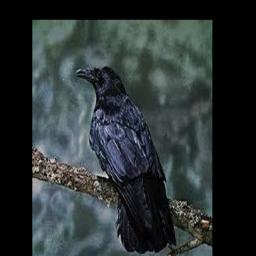Crow: (75, 65, 177, 254)
